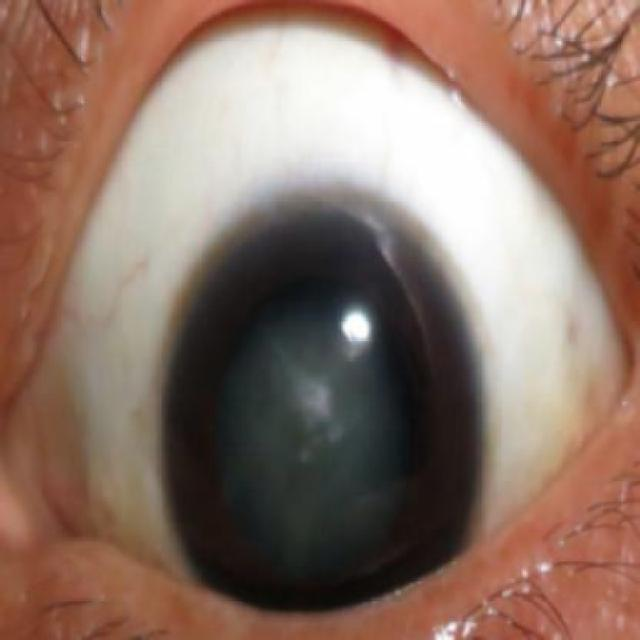Cataract: (160, 171, 485, 633)
